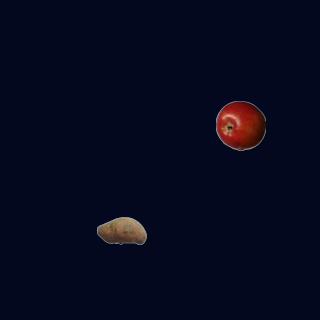Apple Braeburn: (215, 100, 265, 150)
Potato Sweet: (96, 205, 146, 255)
